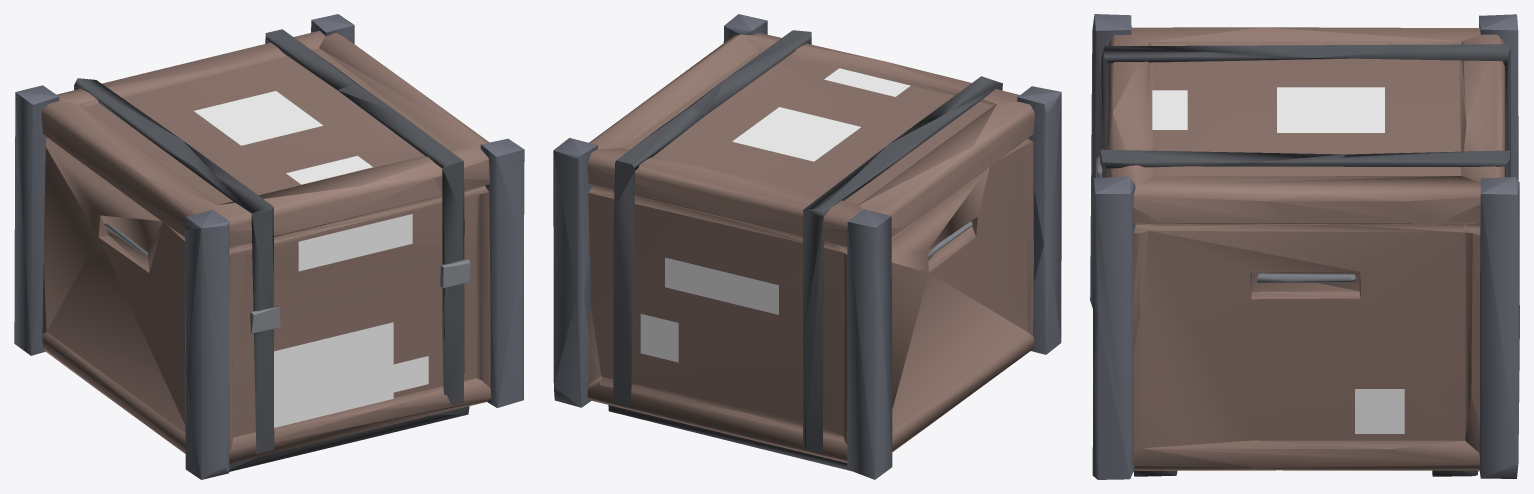
File: caisse_t_b.glb
3 renders of one model, left to right at view 1: azimuth 30°, elevation 25°; view 2: azimuth 150°, elevation 25°; view 3: azimuth 270°, elevation 25°, orthographic. The views are drawn at different scales.
Visible parts, largest first — view 1: caisse_t_b, caisse_t_b_decal; view 2: caisse_t_b, caisse_t_b_decal; view 3: caisse_t_b, caisse_t_b_decal.
Boxes of the visible parts, x1,y1,x2,y2 form: caisse_t_b: [14, 14, 524, 479]; caisse_t_b_decal: [194, 91, 428, 427]; caisse_t_b: [553, 14, 1061, 479]; caisse_t_b_decal: [640, 68, 910, 362]; caisse_t_b: [1090, 14, 1519, 479]; caisse_t_b_decal: [1152, 87, 1404, 433].
Size of the model in its own units: 1.03 by 0.8175 by 1.03.
